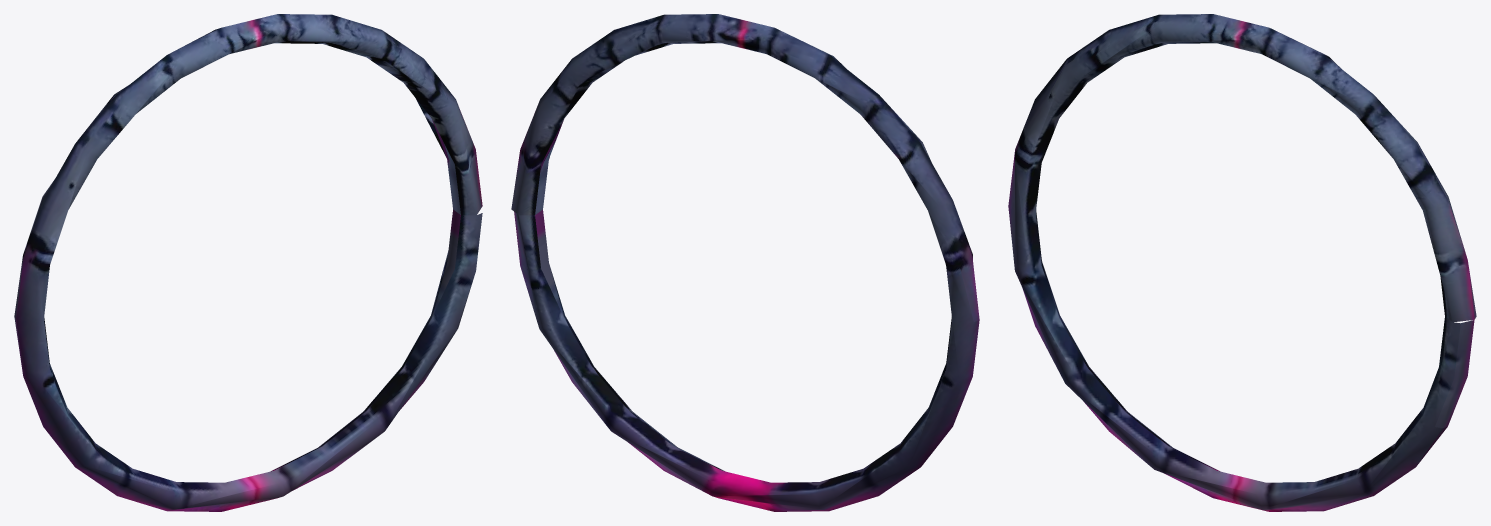
File: well-of-urd-ring-texture-wrap-2026-05-14T23-34-00-441Z.low.glb
The picture shows the model from 3 angles, left to right: view 1: azimuth 30°, elevation 25°; view 2: azimuth 150°, elevation 25°; view 3: azimuth 330°, elevation 25°; orthographic projection.
Parts seen in each view (by area): view 1: GLTF; view 2: GLTF; view 3: GLTF.
Part boxes in pixels (<box>): GLTF: <box>14,14,482,511</box>; GLTF: <box>511,14,979,511</box>; GLTF: <box>1008,14,1476,511</box>.
Bounding box in the file's own units: 23.41 × 23.24 × 1.38.
1 material, 1 textured.
